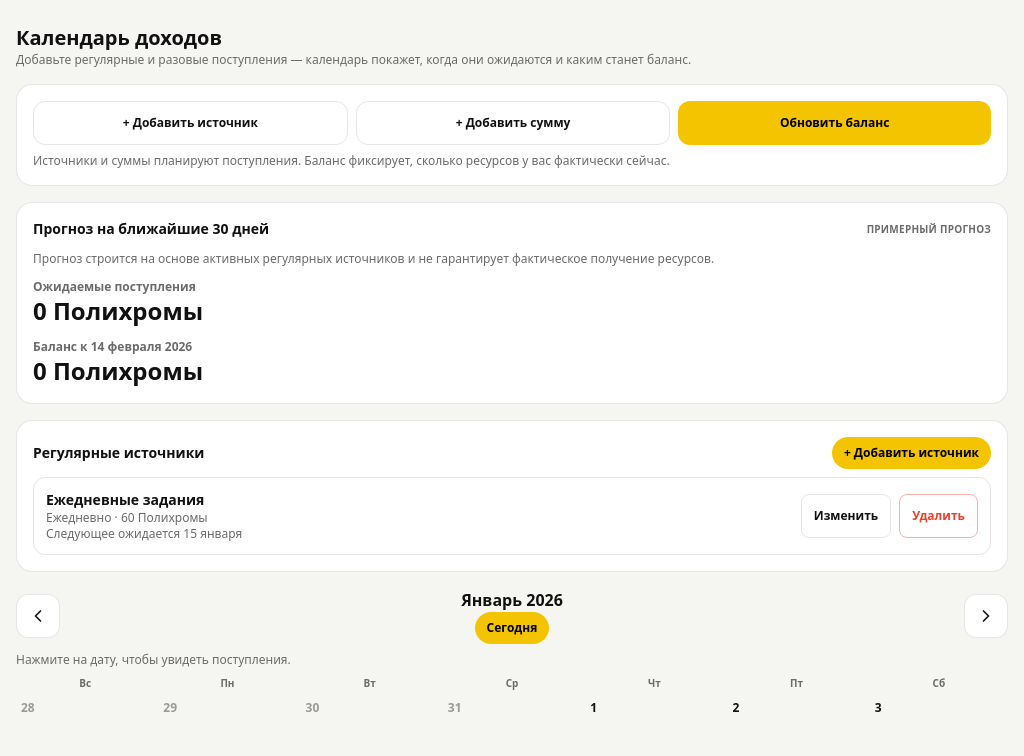
it: Calendar modal dialogs — systematic accessibility pass › delete-series-confirm dialog: accessible, focuses its confirm button, Escape cancels without deleting
Click the button with aria-label "удалить источник" at (939, 516), box [899, 494, 978, 538]
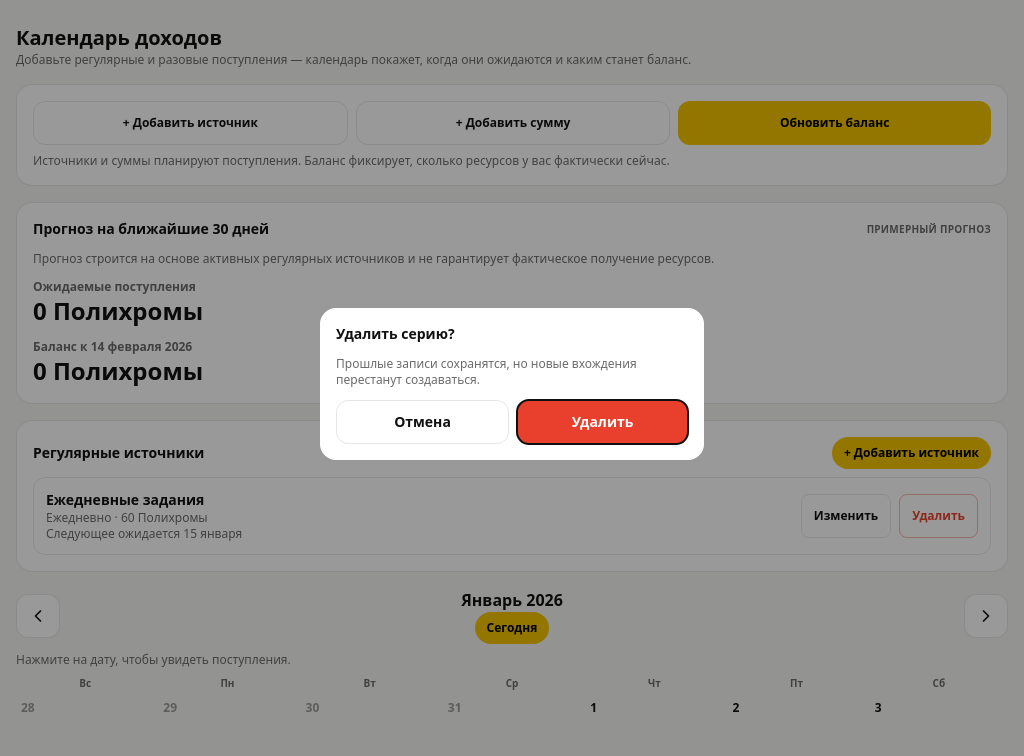
Press Escape
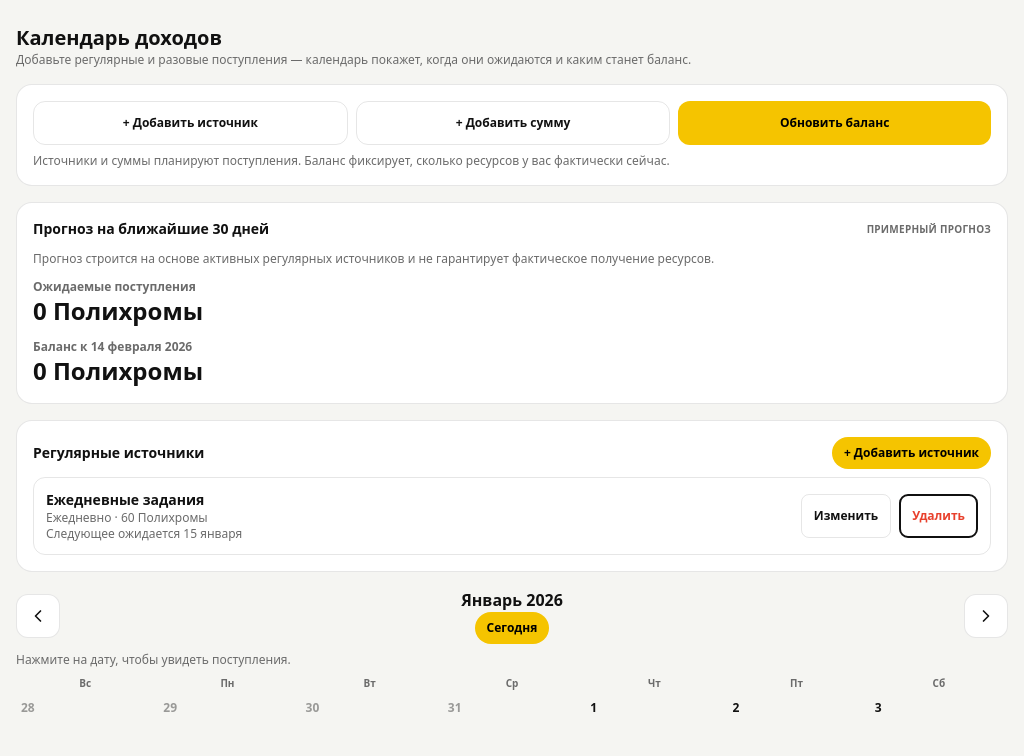
Expected: the heading "Удалить серию" is gone
